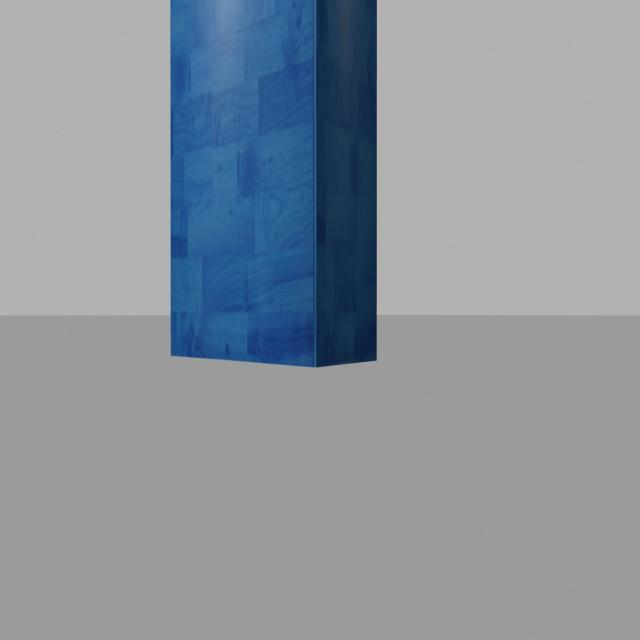shelf: (155, 0, 391, 387)
